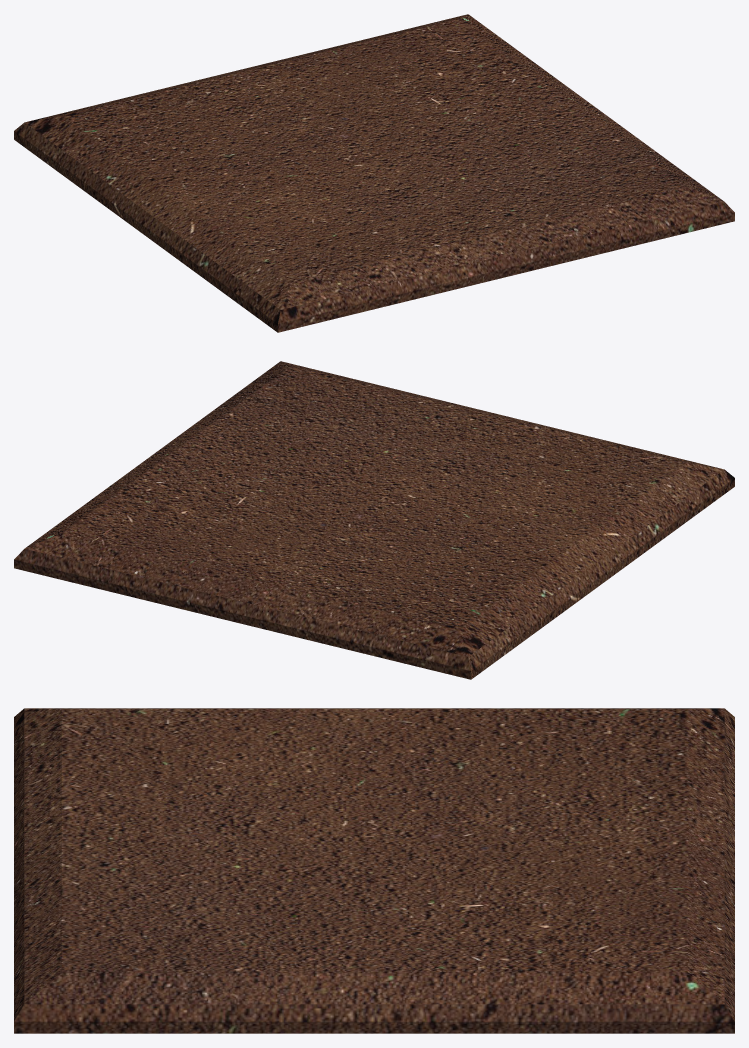
3 views of the same model, one above another, from view 1: azimuth 30°, elevation 25°; view 2: azimuth 150°, elevation 25°; view 3: azimuth 270°, elevation 25° (orthographic). The views are drawn at different scales.
Visible parts, largest first — view 1: Box001; view 2: Box001; view 3: Box001.
Boxes of the visible parts, bbox=[...] form: Box001: bbox=[14, 14, 734, 332]; Box001: bbox=[14, 361, 734, 679]; Box001: bbox=[14, 708, 734, 1033].
Size of the model in its own units: 55 by 3.39 by 55.
Materials: 1 (1 with a texture image).
